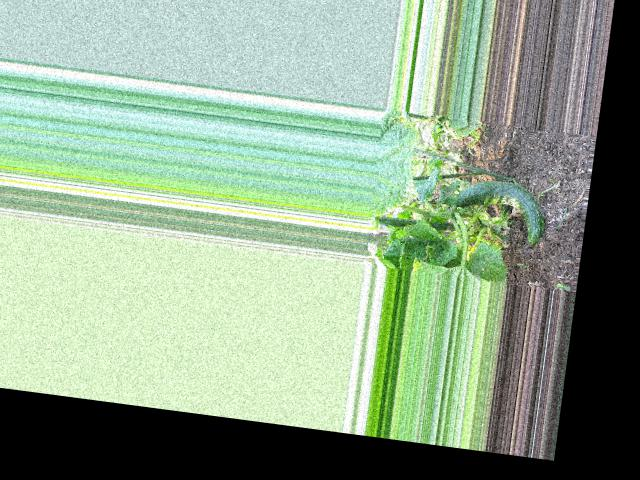cucumber: (449, 174, 549, 245)
